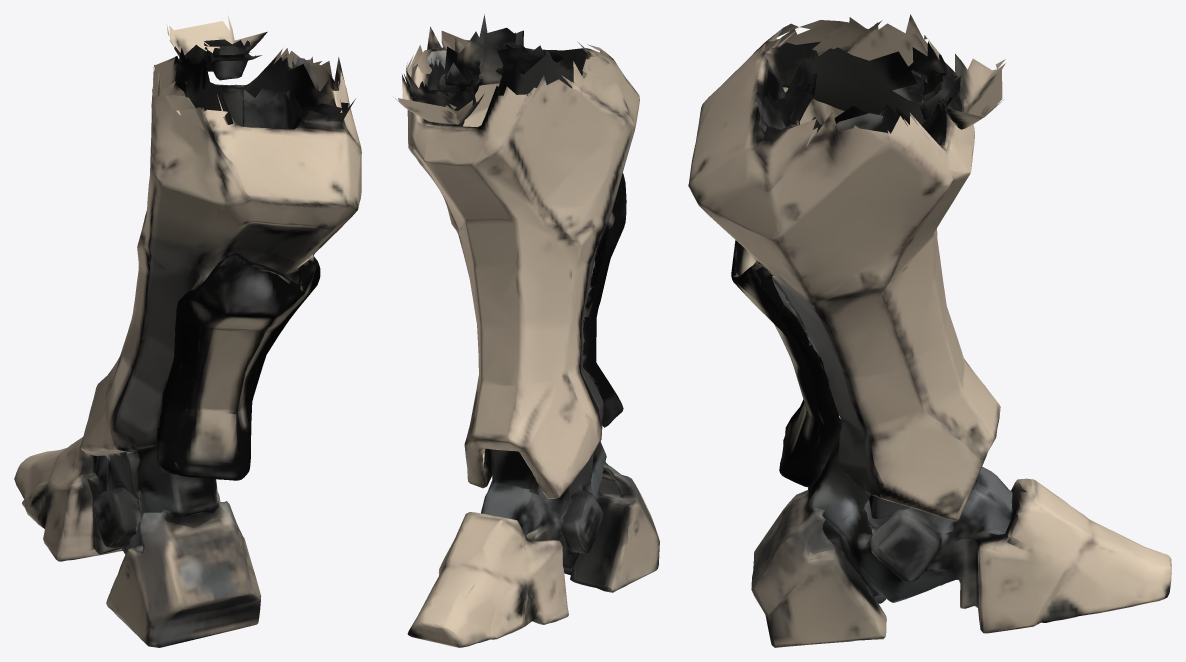
File: wanzer_local_leg_left_001_lower.glb
3 views of the same model, side by side, from view 1: azimuth 30°, elevation 25°; view 2: azimuth 150°, elevation 25°; view 3: azimuth 270°, elevation 25° (orthographic). The views are drawn at different scales.
Visible parts, largest first — view 1: P_leg_left_lower; view 2: P_leg_left_lower; view 3: P_leg_left_lower.
Part boxes in pixels (x1,y1,x2,y2): P_leg_left_lower: (14,14,361,647); P_leg_left_lower: (393,14,659,647); P_leg_left_lower: (688,14,1171,647).
Size of the model in its own units: 0.5315 by 1.28 by 0.9163.
Materials: 2 (2 with a texture image).
